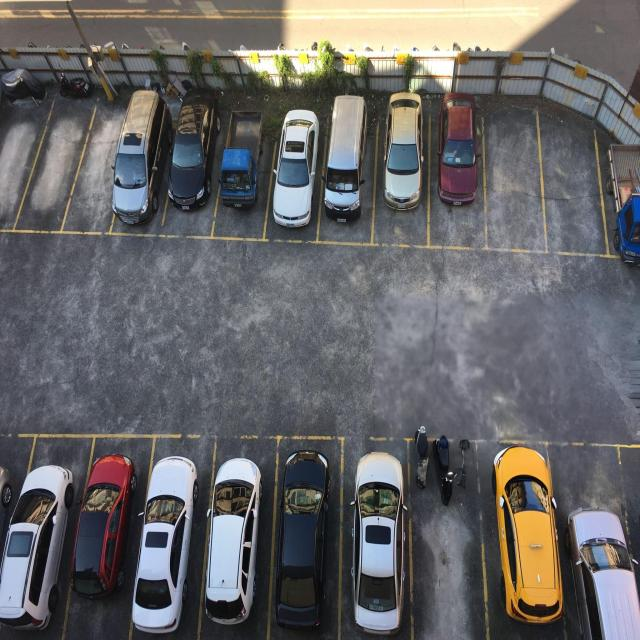space-empty: (410, 436, 490, 640), (537, 112, 607, 260), (480, 107, 543, 255), (20, 86, 77, 237), (0, 76, 46, 232), (64, 114, 120, 238)
space-occupied: (0, 428, 75, 640), (554, 447, 636, 640), (486, 441, 566, 636), (203, 438, 279, 640), (343, 438, 416, 640), (267, 442, 341, 640), (71, 430, 140, 640), (136, 427, 202, 640), (431, 105, 489, 252), (376, 96, 432, 247), (322, 107, 376, 246), (167, 106, 222, 240), (270, 108, 324, 239), (216, 112, 268, 242), (114, 122, 169, 231), (603, 139, 640, 263)
